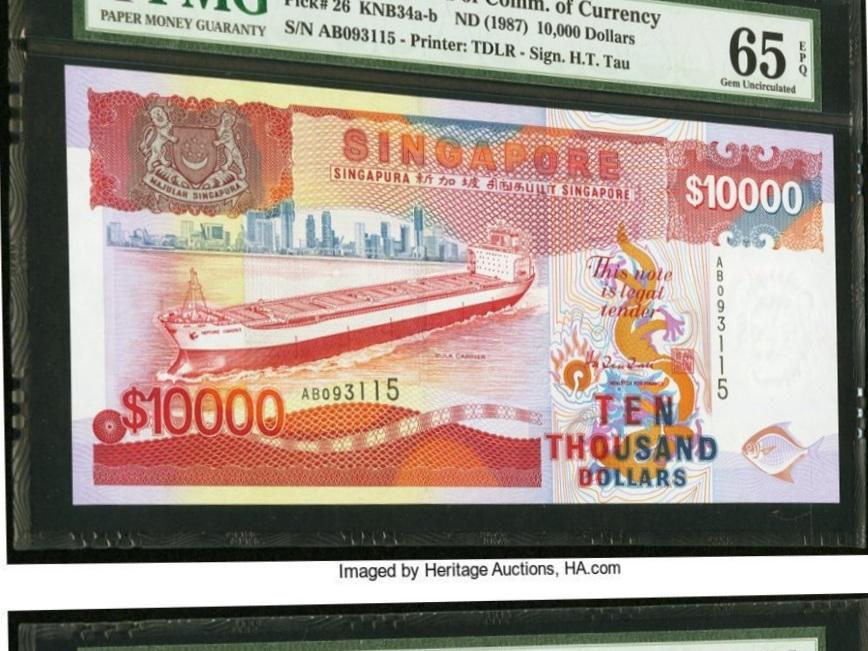10000SingaporeDollar: (73, 90, 834, 498)
